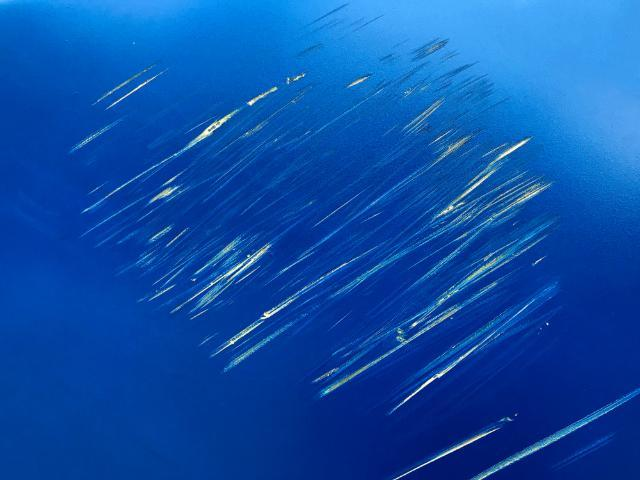scratch: (66, 0, 568, 480)
